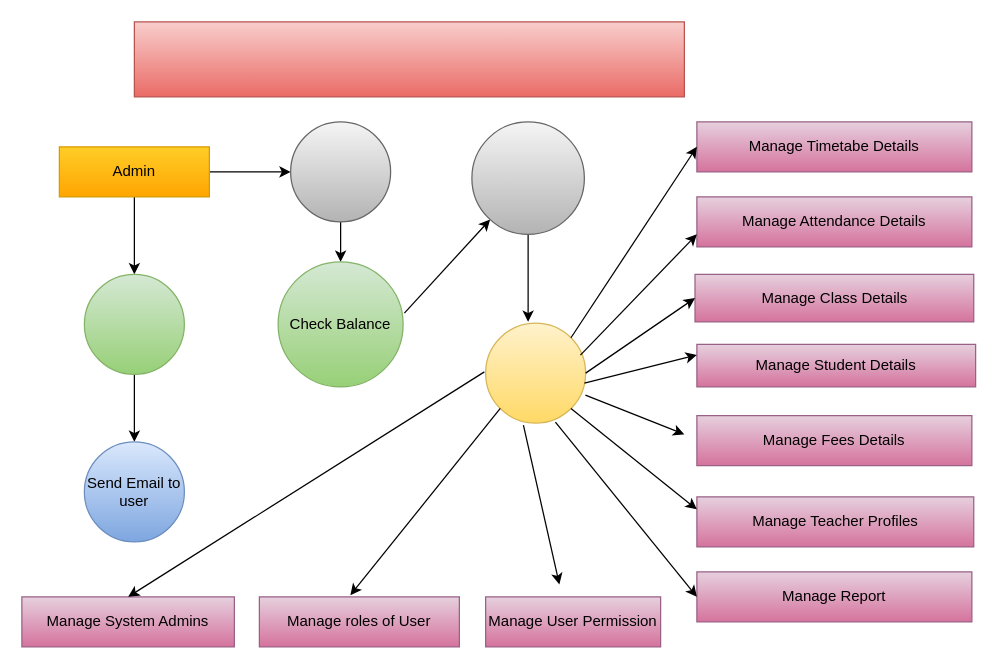
Some shapes in this 998 by 669 pixel diagram are drawn without their labels. Here are the shapes that lost their labels. From the top down, the box of each, then its label:
(133, 21, 684, 97): Student Information System
(289, 121, 391, 222): Login to System
(471, 121, 584, 234): Check roles of access
(83, 273, 184, 374): Forget Password
(484, 322, 586, 423): Manage Modules
